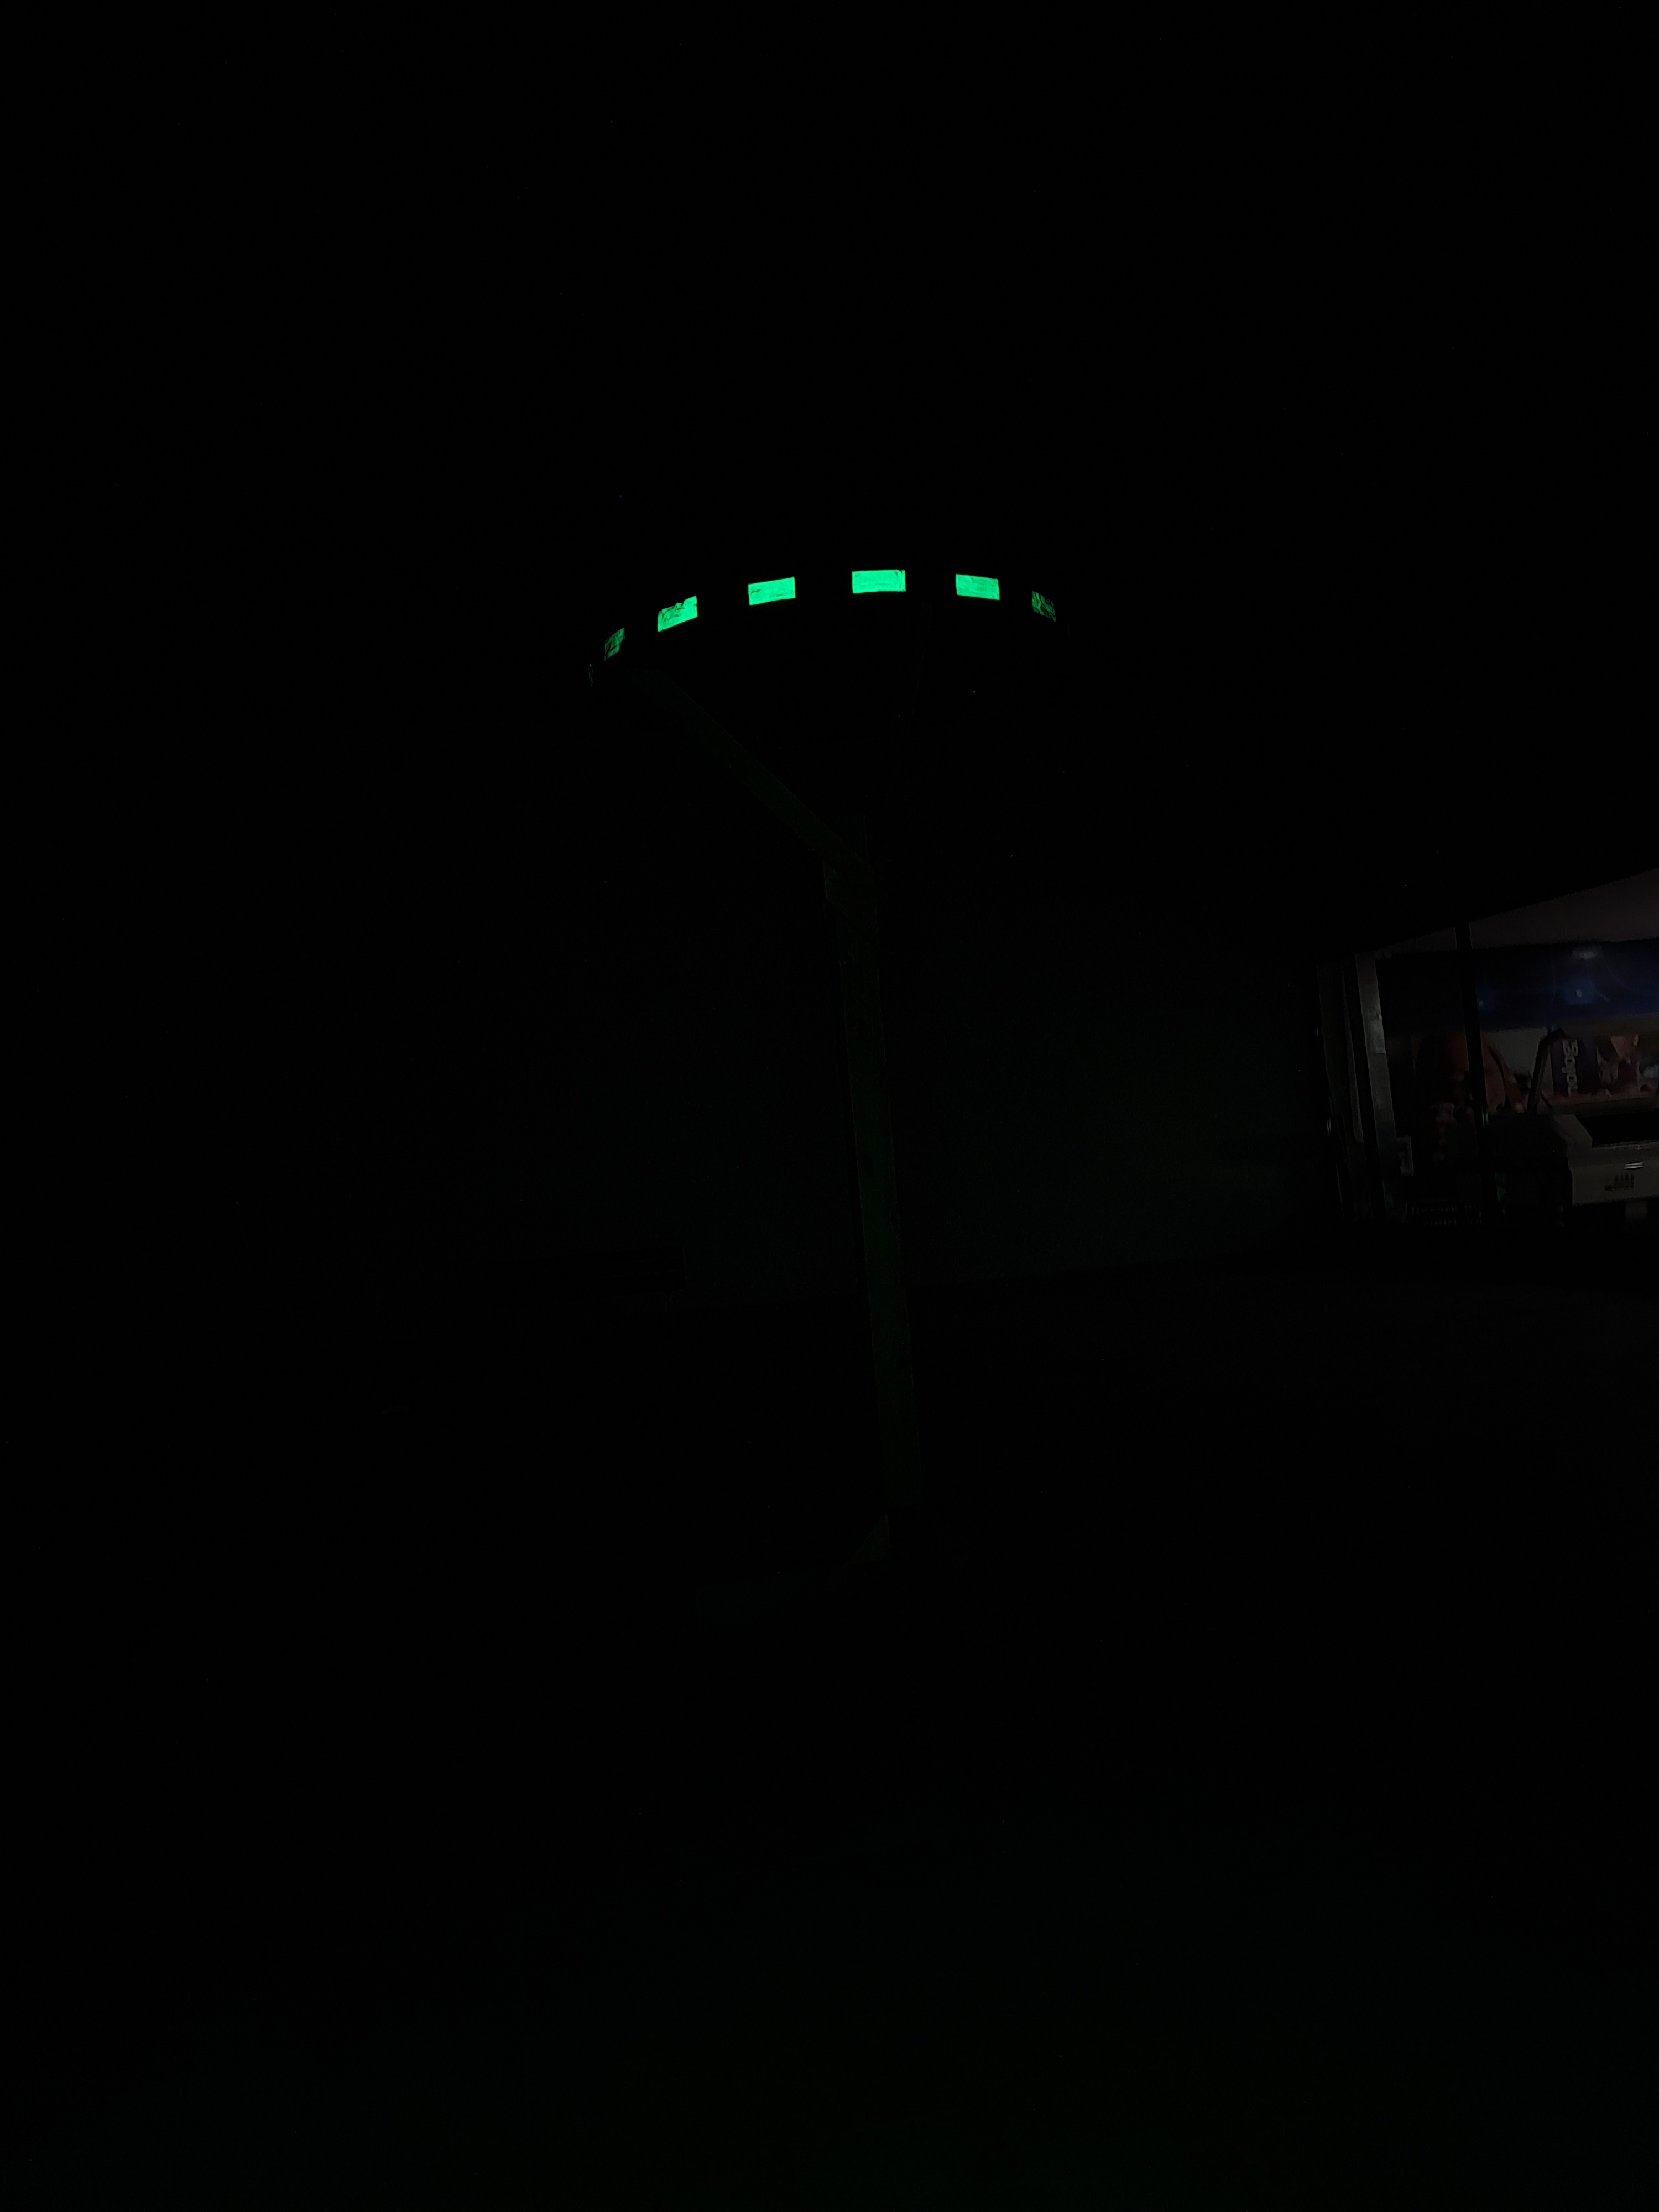hoop: (542, 556, 1107, 657)
